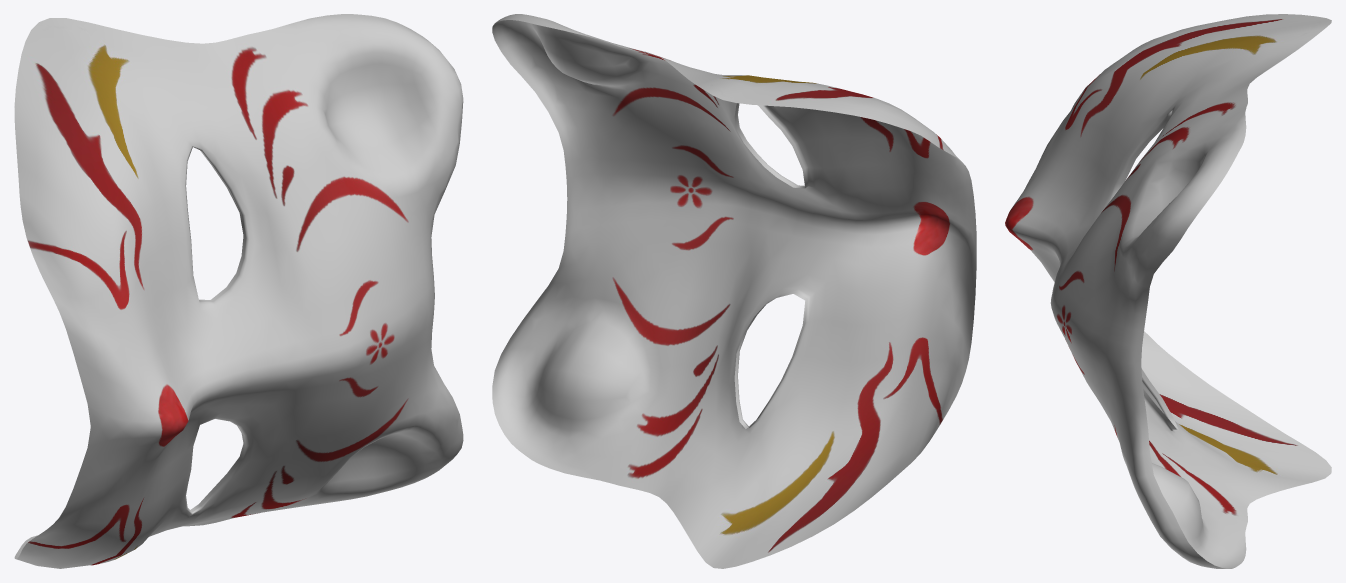
File: FoxCatMask.fbx
3 views of the same model, side by side, from view 1: azimuth 30°, elevation 25°; view 2: azimuth 150°, elevation 25°; view 3: azimuth 270°, elevation 25° (orthographic). The views are drawn at different scales.
Visible parts, largest first — view 1: Mask; view 2: Mask; view 3: Mask.
Boxes of the visible parts, x1,y1,x2,y2 form: Mask: (14, 14, 463, 568); Mask: (492, 14, 976, 568); Mask: (1005, 14, 1331, 568).
Bounding box in the file's own units: 0.1077 × 0.1157 × 0.0761.
